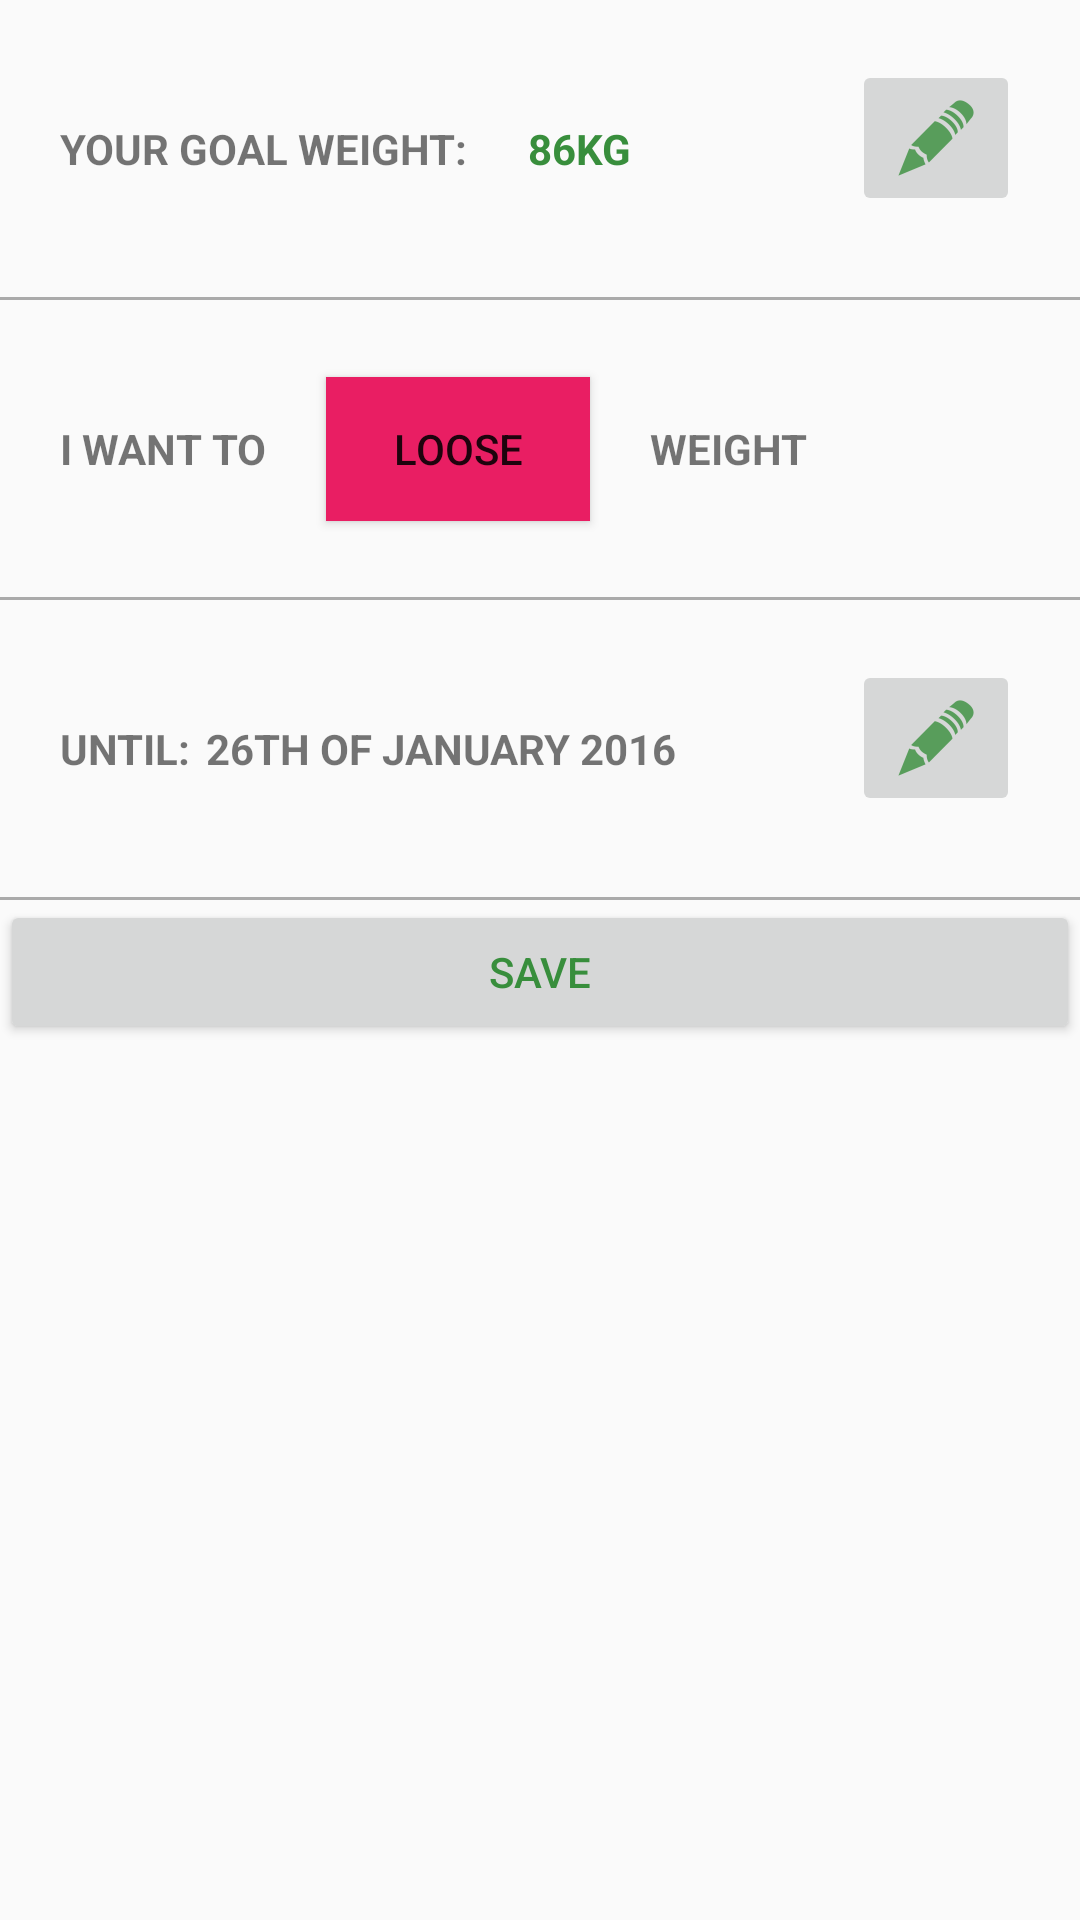

Named icons in this screenshot (1080×1920) and their centers, (x,y):
edit: (936,138), (936,738)
